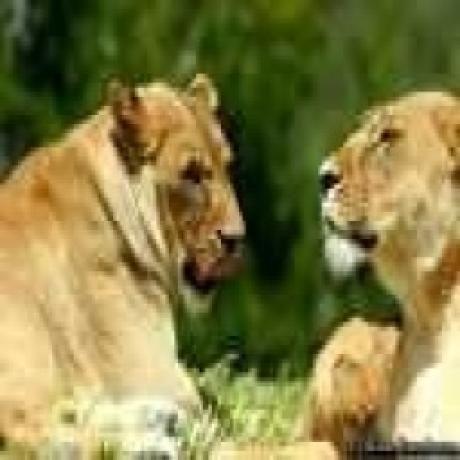Lion: (0, 64, 250, 460), (302, 82, 460, 460)
